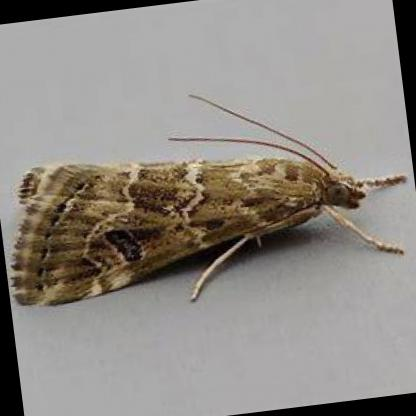Hellula undalis: (7, 88, 413, 308)
